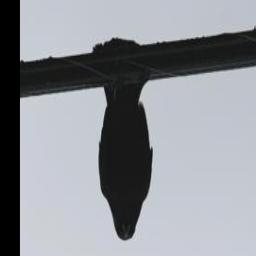Crow: (94, 37, 155, 242)
